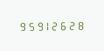eight: (80, 19, 88, 30)
five: (26, 20, 34, 31)
nine: (17, 20, 25, 31), (35, 20, 43, 31)
one: (44, 20, 52, 30)
six: (62, 19, 70, 30)
two: (53, 19, 61, 30), (71, 19, 79, 30)
